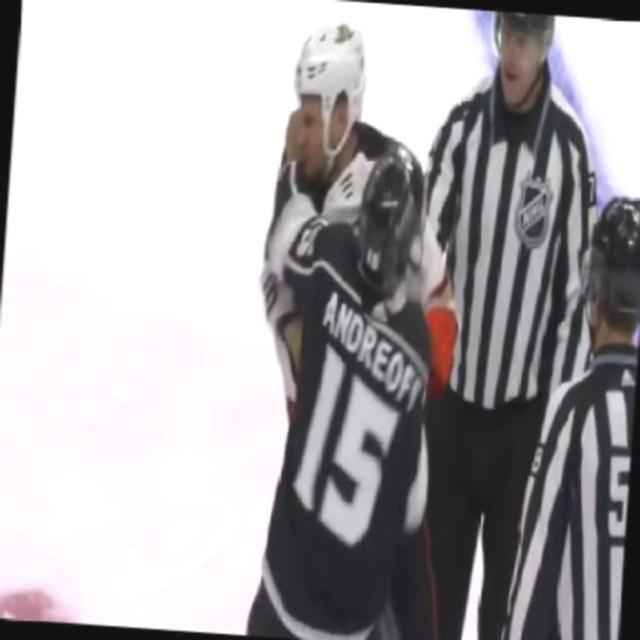fight: (227, 0, 483, 638)
non-fight: (484, 176, 638, 638)
